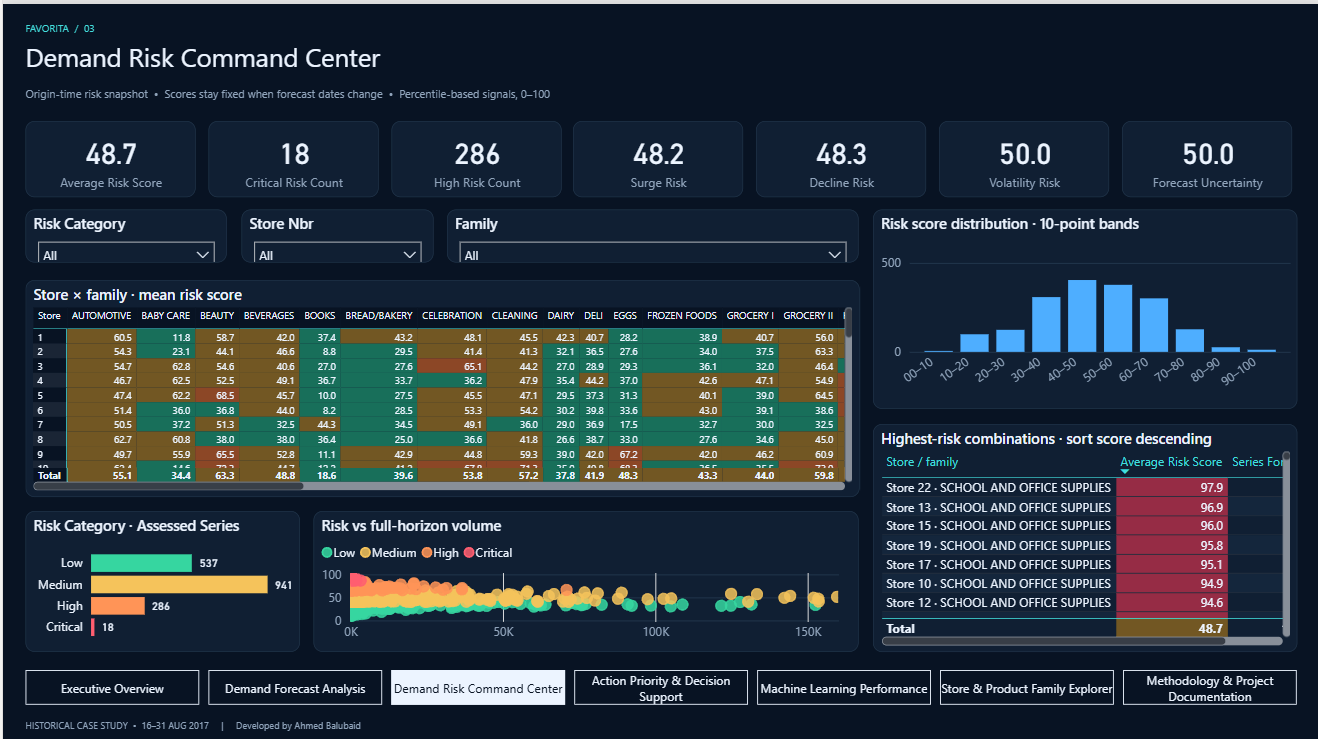

What the dashboard file says about the page in this screenshot:
{"tool":"powerbi","page":{"name":"Demand Risk Command Center","canvas":[1440,810],"ordinal":2},"visuals":[{"type":"textbox","box":[24,14,300,24],"z":34},{"type":"textbox","box":[24,40,1370,44],"z":35},{"type":"textbox","box":[24,87,1370,30],"z":36},{"type":"textbox","box":[24,777,1040,22],"z":37},{"type":"pageNavigator","box":[24,729,1392,38],"z":38},{"type":"card","fields":{"Values":["FactForecast.Average Risk Score"]},"box":[24,128,186,83],"z":39},{"type":"card","fields":{"Values":["FactForecast.Critical Risk Count"]},"box":[224,128,186,83],"z":40},{"type":"card","fields":{"Values":["FactForecast.High Risk Count"]},"box":[424,128,186,83],"z":41},{"type":"card","fields":{"Values":["FactForecast.Surge Risk"]},"box":[624,128,186,83],"z":42},{"type":"card","fields":{"Values":["FactForecast.Decline Risk"]},"box":[824,128,186,83],"z":43},{"type":"card","fields":{"Values":["FactForecast.Volatility Risk"]},"box":[1024,128,186,83],"z":44},{"type":"card","fields":{"Values":["FactForecast.Forecast Uncertainty"]},"box":[1224,128,186,83],"z":45},{"type":"slicer","title":"Risk Category","fields":{"Values":["DimRiskCategory.risk_category"]},"box":[24,225,220,58],"z":46},{"type":"slicer","title":"Store Nbr","fields":{"Values":["DimStore.store_nbr"]},"box":[260,225,210,58],"z":47},{"type":"slicer","title":"Family","fields":{"Values":["DimFamily.family"]},"box":[486,225,450,58],"z":48},{"type":"clusteredColumnChart","title":"Risk score distribution · 10-point bands","fields":{"Category":["DimSeries.risk_band"],"Y":["FactForecast.Combinations"]},"box":[952,225,464,218],"z":49},{"type":"pivotTable","title":"Store × family · mean risk score","fields":{"Columns":["DimFamily.family"],"Rows":["DimStore.store_nbr"],"Values":["FactForecast.Average Risk Score"]},"box":[24,301,912,237],"z":50},{"type":"clusteredBarChart","title":"Risk Category · Assessed Series","fields":{"Category":["DimRiskCategory.risk_category"],"Y":["FactForecast.Combinations"]},"box":[24,554,300,154],"z":51},{"type":"scatterChart","title":"Risk vs full-horizon volume","fields":{"Category":["DimSeries.series_label"],"Series":["DimRiskCategory.risk_category"],"X":["FactForecast.Series Forecast Units"],"Y":["FactForecast.Average Risk Score"]},"box":[340,554,596,154],"z":52},{"type":"tableEx","title":"Highest-risk combinations · sort score descending","fields":{"Values":["DimSeries.series_label","FactForecast.Average Risk Score","FactForecast.Series Forecast Units"]},"box":[952,459,464,249],"z":53}]}

Visuals, with their boxes in screenshot pixels (x1, y1, x2, y2), scaled from the page's 1440x810 canvas onto the 1318x739 screenshot:
textbox: detection(22, 13, 297, 35)
textbox: detection(22, 36, 1276, 77)
textbox: detection(22, 79, 1276, 107)
textbox: detection(22, 709, 974, 729)
pageNavigator: detection(22, 665, 1296, 700)
card - FactForecast.Average Risk Score: detection(22, 117, 192, 193)
card - FactForecast.Critical Risk Count: detection(205, 117, 375, 193)
card - FactForecast.High Risk Count: detection(388, 117, 558, 193)
card - FactForecast.Surge Risk: detection(571, 117, 741, 193)
card - FactForecast.Decline Risk: detection(754, 117, 924, 193)
card - FactForecast.Volatility Risk: detection(937, 117, 1107, 193)
card - FactForecast.Forecast Uncertainty: detection(1120, 117, 1291, 193)
"Risk Category" slicer: detection(22, 205, 223, 258)
"Store Nbr" slicer: detection(238, 205, 430, 258)
"Family" slicer: detection(445, 205, 857, 258)
"Risk score distribution · 10-point bands" clusteredColumnChart: detection(871, 205, 1296, 404)
"Store × family · mean risk score" pivotTable: detection(22, 275, 857, 491)
"Risk Category · Assessed Series" clusteredBarChart: detection(22, 505, 297, 646)
"Risk vs full-horizon volume" scatterChart: detection(311, 505, 857, 646)
"Highest-risk combinations · sort score descending" tableEx: detection(871, 419, 1296, 646)
